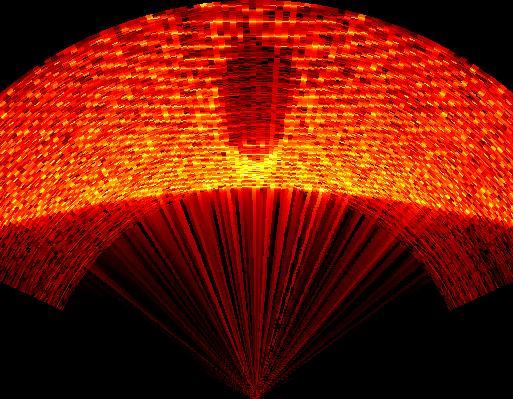box_crate: (216, 38, 302, 187)
